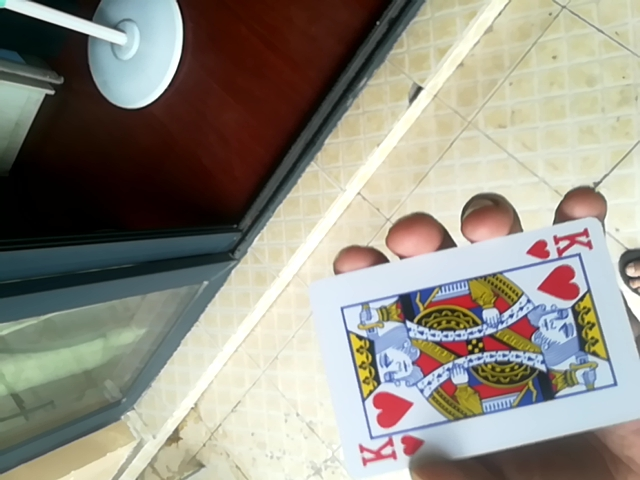hx k: (310, 218, 640, 477)
